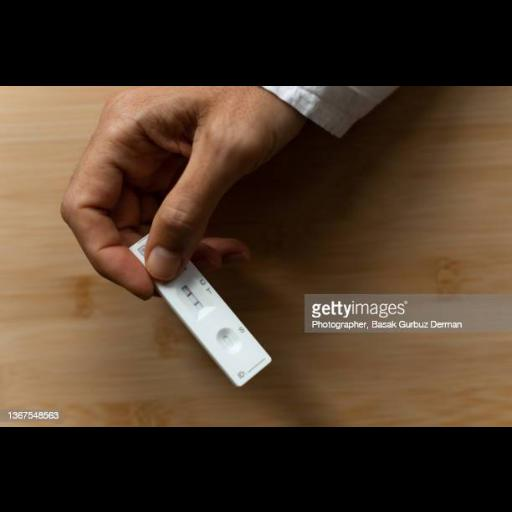Pos: (130, 224, 273, 386)
